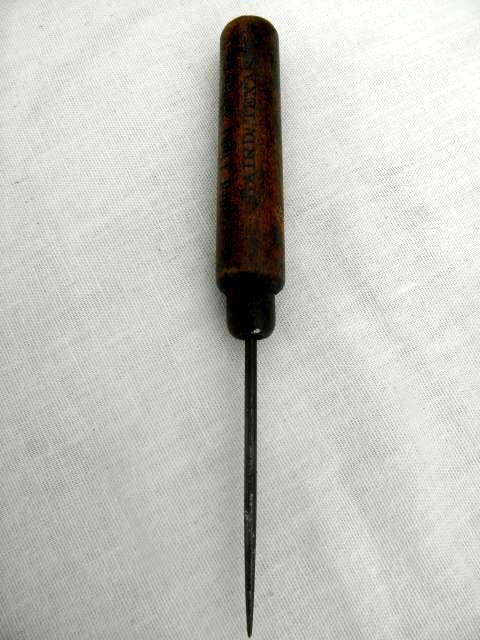ice pick: (215, 15, 285, 639)
